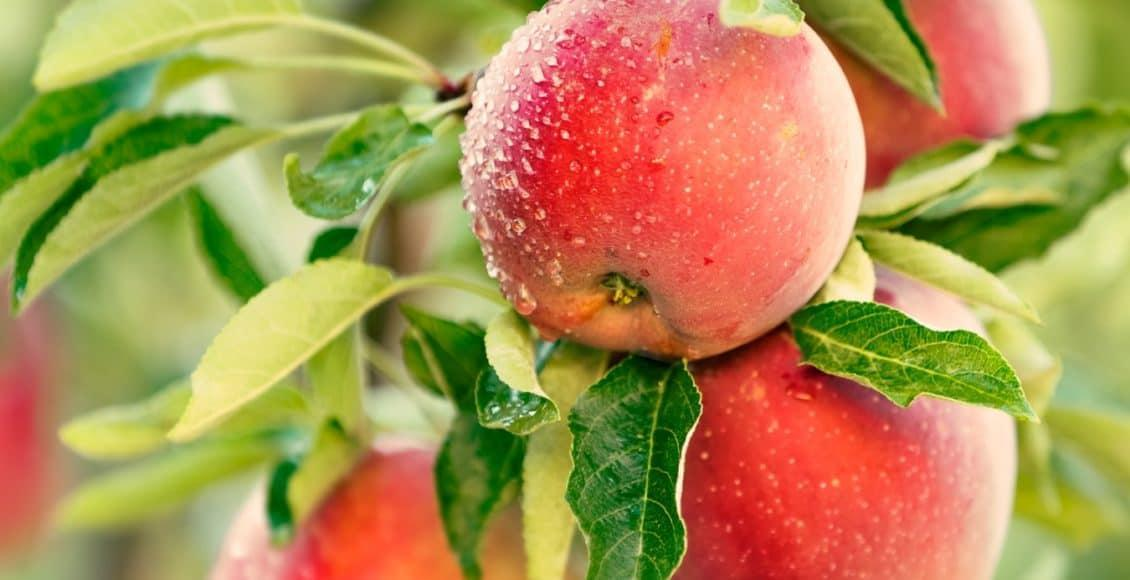apple: (547, 175, 1027, 575), (465, 10, 908, 353)
